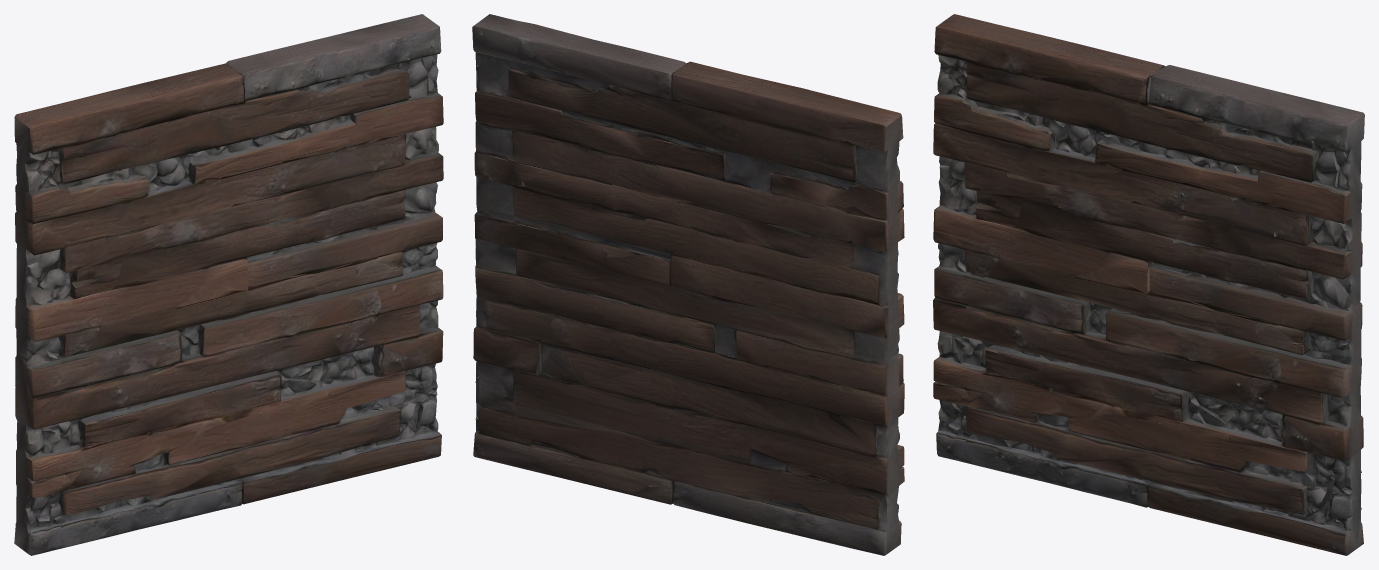
The model's file is mine_wall_planks_idle.glb.
3 renders of one model, left to right at view 1: azimuth 30°, elevation 25°; view 2: azimuth 150°, elevation 25°; view 3: azimuth 330°, elevation 25°, orthographic.
Visible parts, largest first — view 1: tripo_node_83584b6f-3a4f-4092-8c50-d258241812bc; view 2: tripo_node_83584b6f-3a4f-4092-8c50-d258241812bc; view 3: tripo_node_83584b6f-3a4f-4092-8c50-d258241812bc.
Part boxes in pixels (<box>): tripo_node_83584b6f-3a4f-4092-8c50-d258241812bc: <box>14,14,443,555</box>; tripo_node_83584b6f-3a4f-4092-8c50-d258241812bc: <box>472,14,904,555</box>; tripo_node_83584b6f-3a4f-4092-8c50-d258241812bc: <box>933,14,1364,555</box>.
Size of the model in its own units: 0.9999 by 0.9998 by 0.1004.
1 material, 1 textured.
